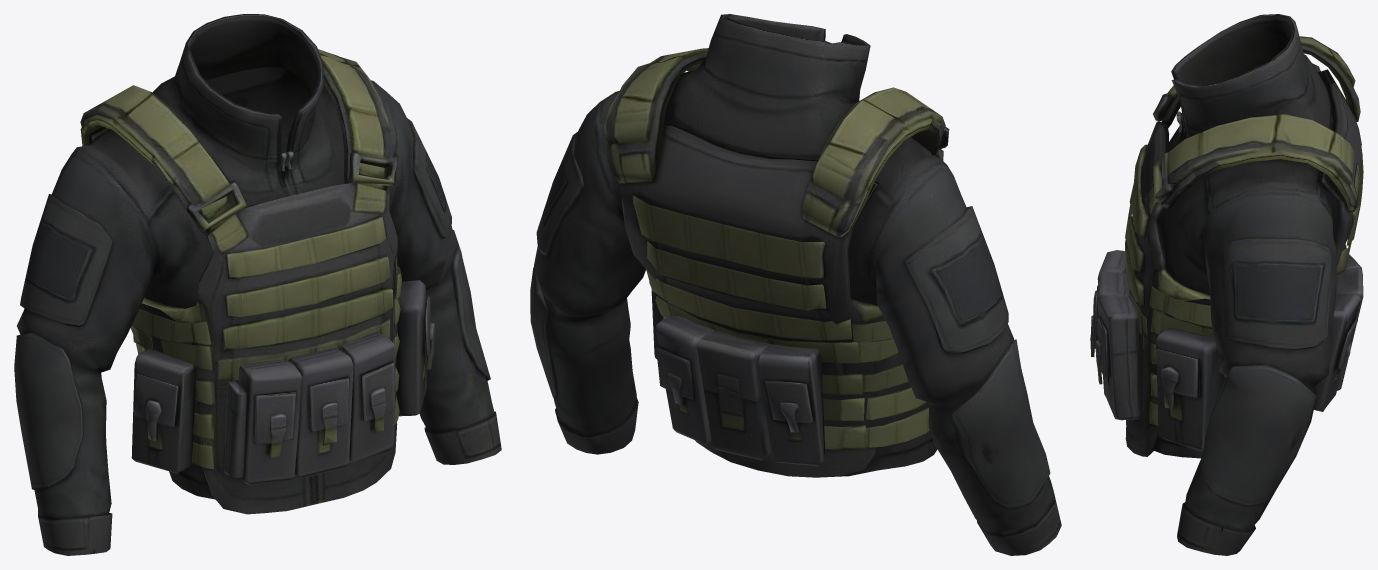
The model's file is reinforced-body.glb.
3 views of the same model, side by side, from view 1: azimuth 30°, elevation 25°; view 2: azimuth 150°, elevation 25°; view 3: azimuth 270°, elevation 25° (orthographic). The views are drawn at different scales.
Parts seen in each view (by area): view 1: reinforced-body; view 2: reinforced-body; view 3: reinforced-body.
Boxes of the visible parts, x1,y1,x2,y2 form: reinforced-body: (14, 14, 501, 555); reinforced-body: (530, 14, 1061, 555); reinforced-body: (1090, 14, 1363, 555).
Bounding box in the file's own units: 0.65 × 0.6395 × 0.3687.
1 material, 1 textured.
